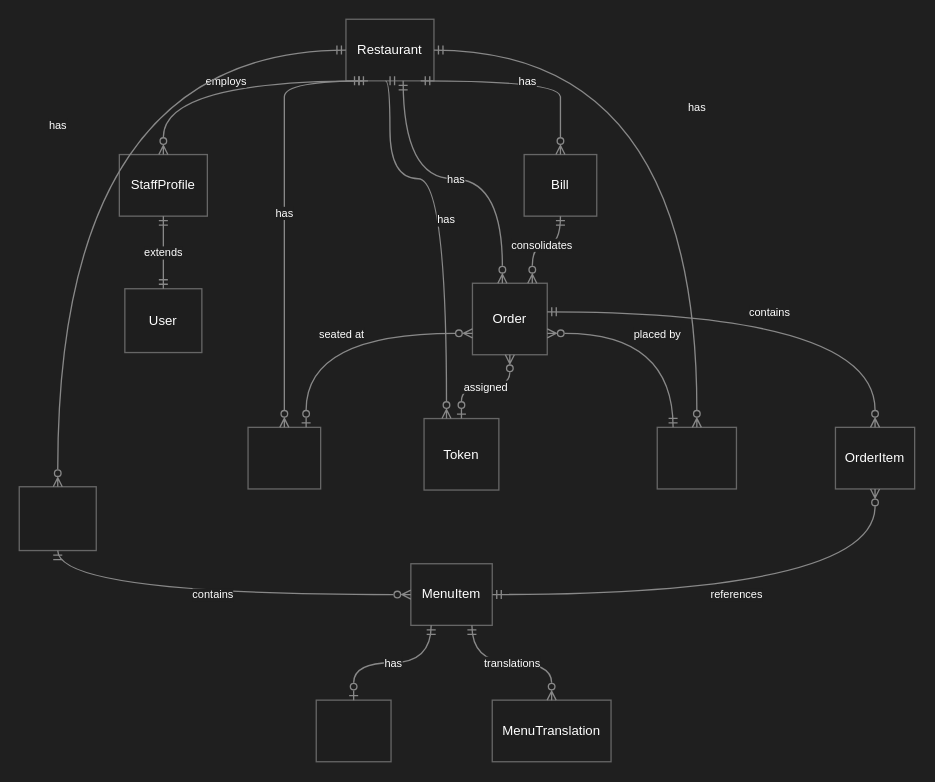
Some shapes in this 935 by 782 pixel diagram are drawn without their labels. Each missing label, with the centre of its shape:
"Category" belongs at pixel 57 518.
"Customer" belongs at pixel 696 457.
"Recipe" belongs at pixel 353 730.
"Table" belongs at pixel 284 457.
